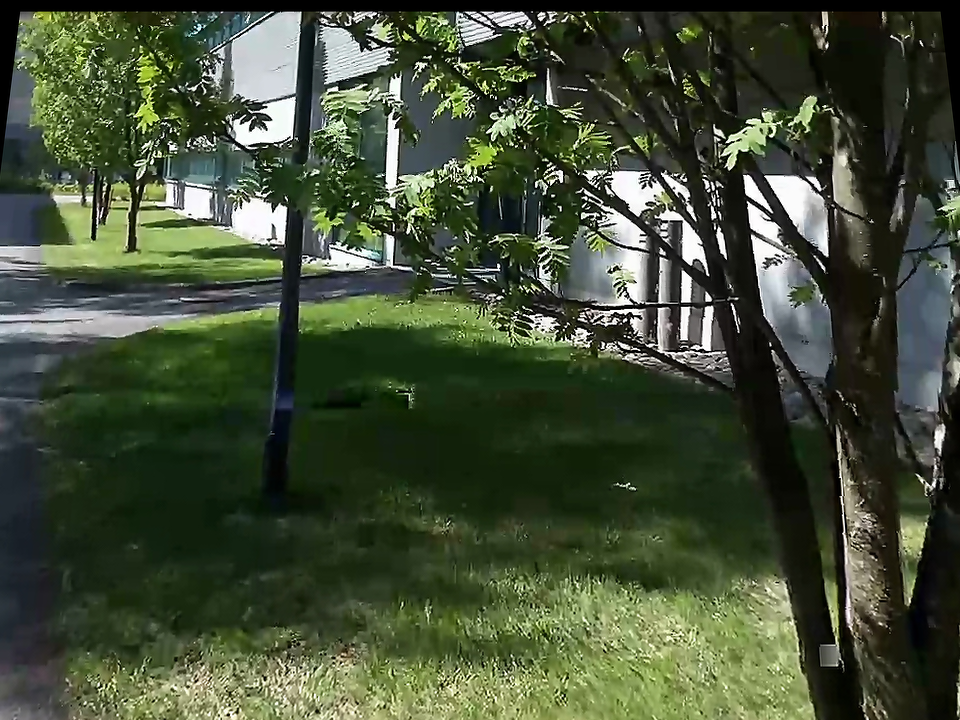branch: (411, 230, 552, 324), (302, 166, 429, 263), (527, 290, 665, 376), (220, 123, 331, 215), (652, 341, 739, 406)
trunk: (674, 151, 884, 409), (729, 379, 882, 638)
